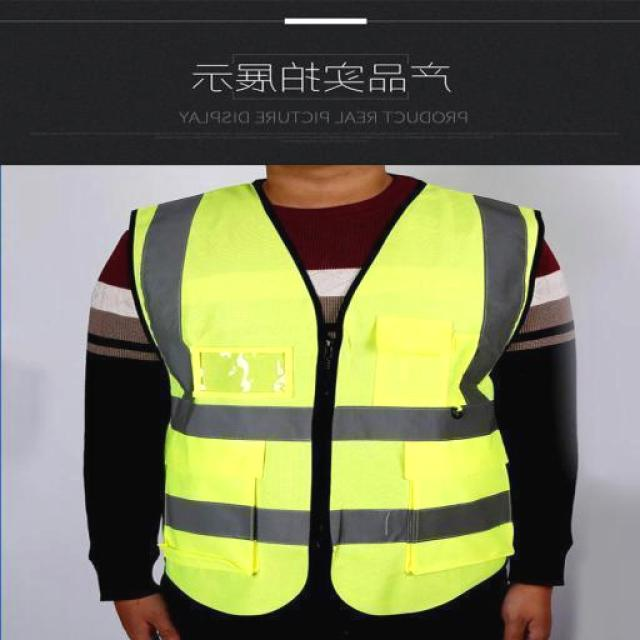vest: (128, 183, 548, 617)
